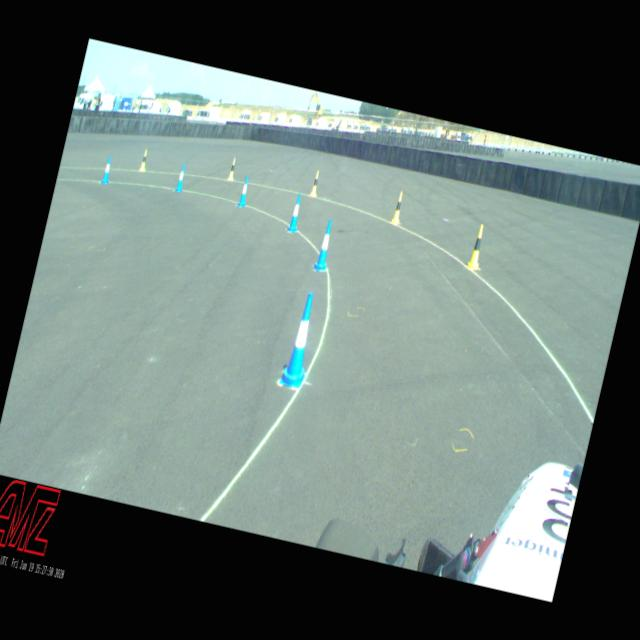blue_cone: (278, 290, 324, 389), (312, 218, 337, 272), (286, 192, 304, 233), (236, 174, 251, 207), (100, 154, 114, 183), (174, 163, 187, 192)
yellow_cone: (466, 222, 488, 270), (390, 190, 407, 225), (309, 170, 322, 198), (226, 157, 238, 181), (138, 149, 150, 172)
